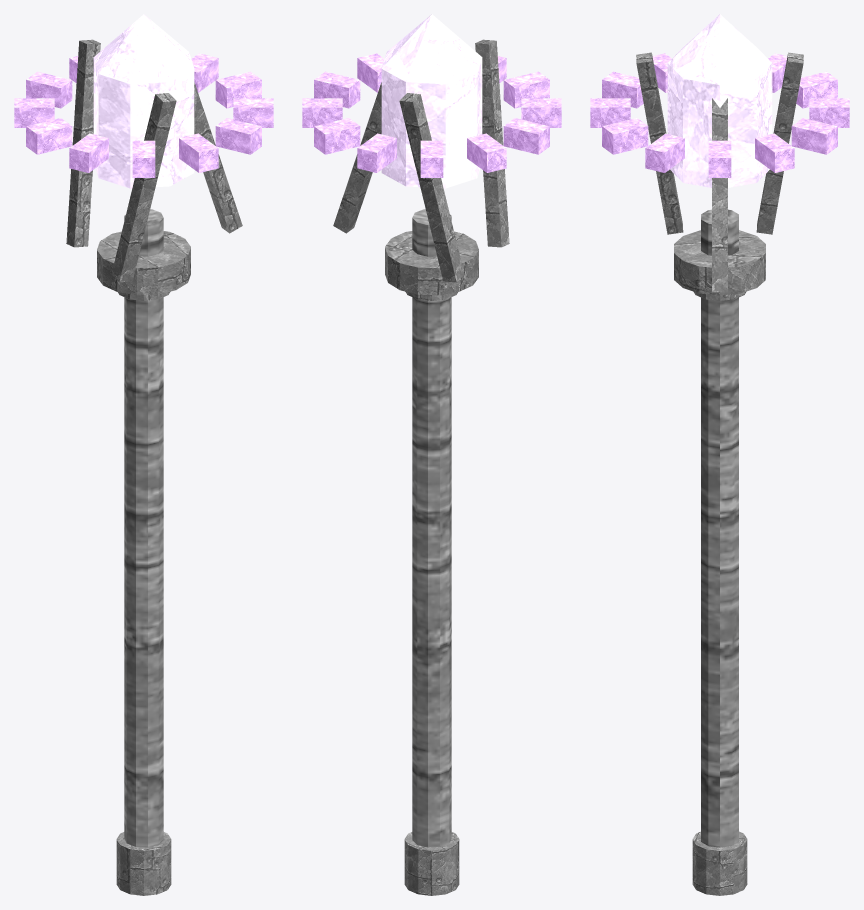
File: staff-seidr-advanced.glb
The picture shows the model from 3 angles, left to right: view 1: azimuth 30°, elevation 25°; view 2: azimuth 150°, elevation 25°; view 3: azimuth 270°, elevation 25°; orthographic projection.
Parts seen in each view (by area): view 1: shaft, weave-core, collar, tine-1, tine-2, pommel, tine-0, witch-ring-2, witch-ring-6, witch-ring-0, witch-ring-8, witch-ring-3 (+5 smaller); view 2: shaft, weave-core, collar, tine-2, tine-1, pommel, tine-0, witch-ring-6, witch-ring-10, witch-ring-0, witch-ring-4, witch-ring-7 (+5 smaller); view 3: shaft, weave-core, collar, pommel, tine-1, tine-2, tine-0, witch-ring-2, witch-ring-10, witch-ring-1, witch-ring-11, witch-ring-3 (+4 smaller).
Boxes of the visible parts, box(x1,y1,x2,y2) form: shaft: box(124, 209, 163, 847); weave-core: box(93, 14, 194, 188); collar: box(97, 231, 190, 295); tine-1: box(111, 93, 176, 282); tine-2: box(66, 39, 100, 247); pommel: box(116, 832, 171, 895); tine-0: box(194, 82, 242, 233); witch-ring-2: box(215, 118, 261, 154); witch-ring-6: box(26, 118, 72, 154); witch-ring-0: box(215, 71, 261, 108); witch-ring-8: box(26, 71, 72, 108); witch-ring-3: box(179, 133, 218, 172); shaft: box(412, 209, 451, 847); weave-core: box(381, 14, 482, 188); collar: box(385, 231, 478, 295); tine-2: box(399, 93, 464, 282); tine-1: box(475, 39, 509, 247); pommel: box(404, 832, 459, 895); tine-0: box(333, 82, 381, 233); witch-ring-6: box(503, 118, 549, 154); witch-ring-10: box(314, 118, 360, 154); witch-ring-0: box(314, 71, 360, 108); witch-ring-4: box(503, 71, 549, 108); witch-ring-7: box(467, 133, 506, 172); shaft: box(701, 209, 738, 847); weave-core: box(667, 14, 772, 187); collar: box(674, 230, 765, 295); pommel: box(692, 831, 747, 895); tine-1: box(636, 52, 683, 234); tine-2: box(756, 52, 803, 234); tine-0: box(712, 98, 727, 292); witch-ring-2: box(602, 118, 648, 154); witch-ring-10: box(791, 118, 837, 154); witch-ring-1: box(645, 133, 684, 172); witch-ring-11: box(755, 133, 794, 172); witch-ring-3: box(590, 98, 630, 127).
Size of the model in its own units: 0.521 by 1.93 by 0.521.
4 materials, 4 textured.
